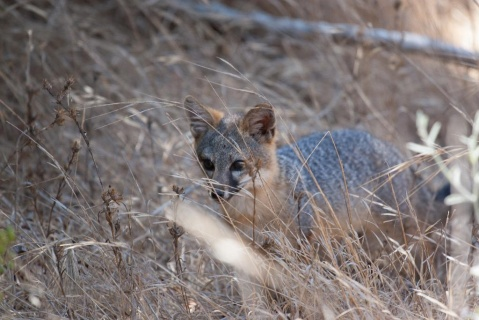Fox: (180, 93, 451, 305)
